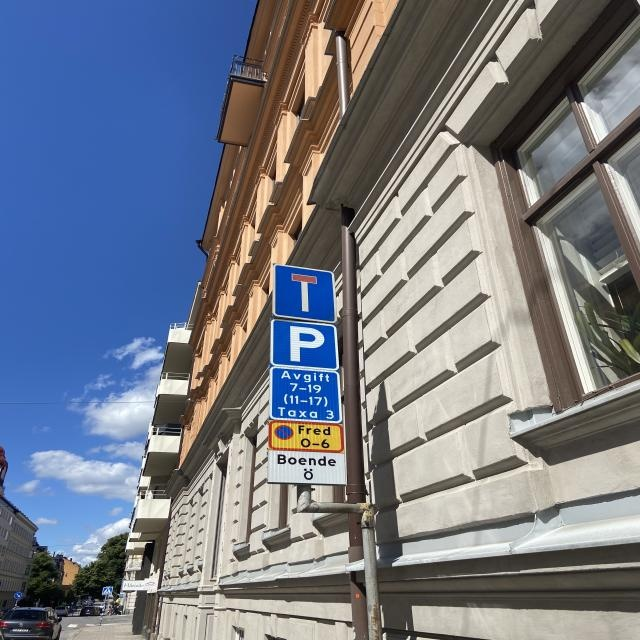P-skylt: (272, 316, 336, 370)
